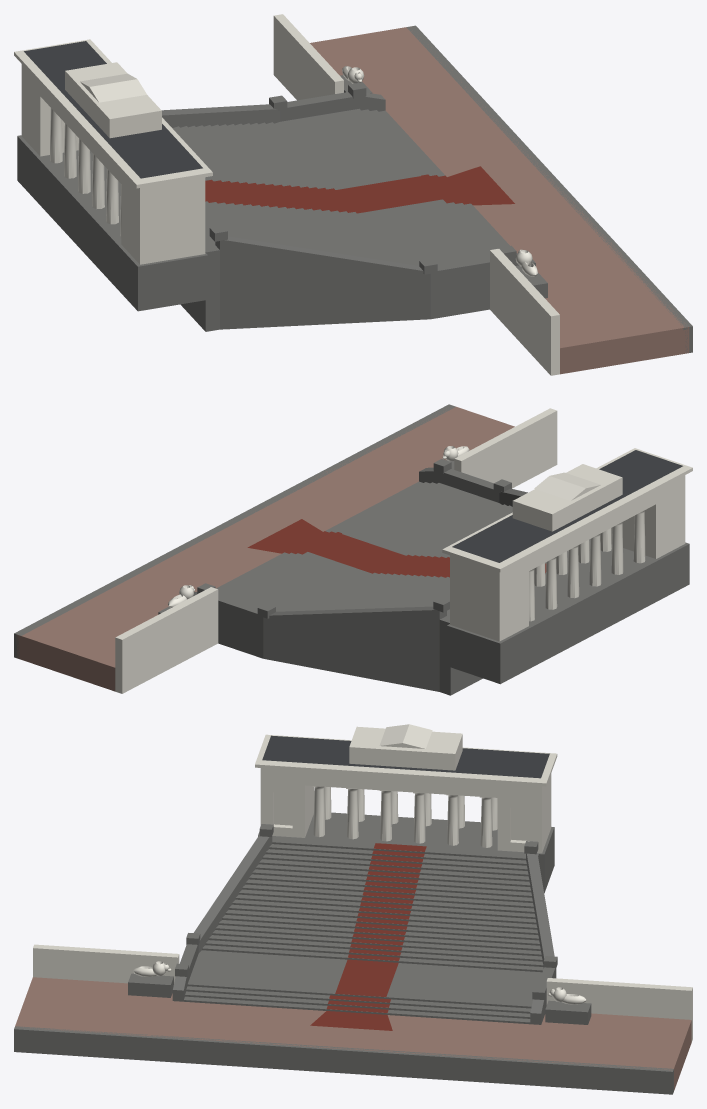
The model's file is grafskaya.lod.glb.
The picture shows the model from 3 angles, top to bottom: view 1: azimuth 30°, elevation 25°; view 2: azimuth 150°, elevation 25°; view 3: azimuth 270°, elevation 25°; orthographic projection. The views are drawn at different scales.
Parts seen in each view (by area): view 1: grafskaya_stone, grafskaya_wall3, grafskaya_wall, grafskaya_wall2, grafskaya_roof, grafskaya_trim_s; view 2: grafskaya_stone, grafskaya_wall, grafskaya_wall3, grafskaya_wall2, grafskaya_trim_s, grafskaya_roof; view 3: grafskaya_stone, grafskaya_wall3, grafskaya_wall, grafskaya_wall2, grafskaya_trim_s, grafskaya_roof.
Boxes of the visible parts, <box> form: grafskaya_stone: <box>17,25,692,352</box>; grafskaya_wall3: <box>310,27,689,374</box>; grafskaya_wall: <box>14,14,559,375</box>; grafskaya_wall2: <box>205,166,514,213</box>; grafskaya_roof: <box>24,41,202,178</box>; grafskaya_trim_s: <box>50,66,537,276</box>; grafskaya_stone: <box>14,404,689,695</box>; grafskaya_wall: <box>115,408,692,693</box>; grafskaya_wall3: <box>16,406,514,691</box>; grafskaya_wall2: <box>247,519,546,577</box>; grafskaya_trim_s: <box>168,446,645,621</box>; grafskaya_roof: <box>452,450,682,562</box>; grafskaya_stone: <box>14,812,673,1094</box>; grafskaya_wall3: <box>15,977,691,1090</box>; grafskaya_wall: <box>33,724,692,1041</box>; grafskaya_wall2: <box>310,843,426,1030</box>; grafskaya_trim_s: <box>132,786,586,1004</box>; grafskaya_roof: <box>262,735,549,778</box>.
Size of the model in its own units: 41.84 by 14.95 by 55.01.
